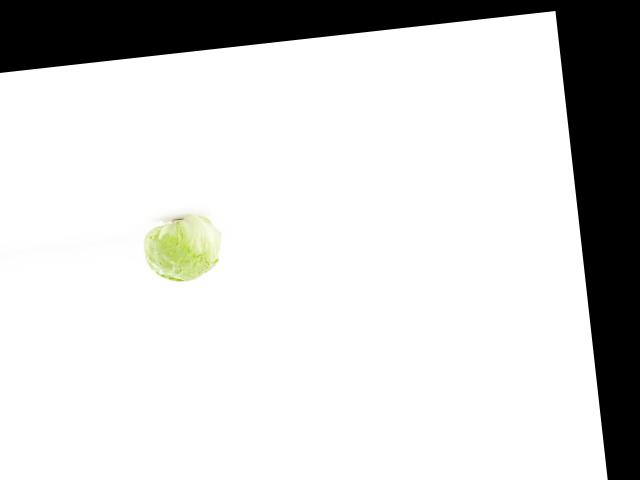lettuce: (131, 216, 226, 288)
